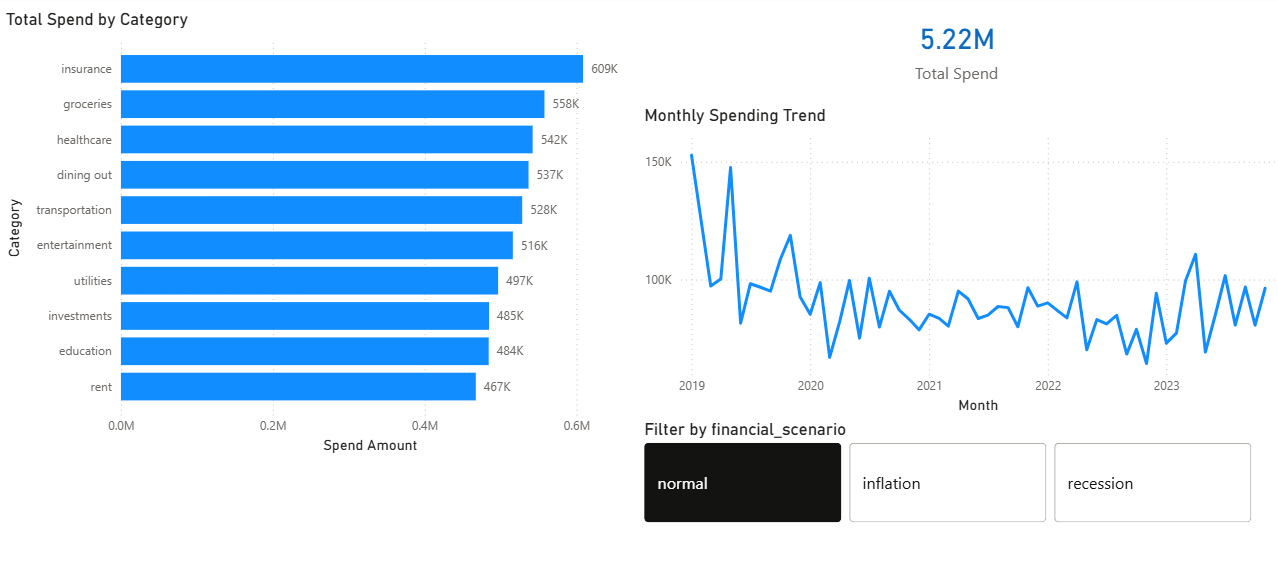

Layout of this report page (visuals, bound fields, positions):
{"tool":"powerbi","page":{"name":"Overview","canvas":[1280,720],"ordinal":0},"visuals":[{"type":"clusteredBarChart","title":"Total Spend by Category","fields":{"Category":["public monthly_spending.category"],"Y":["Sum(public monthly_spending.monthly_expense)"]},"box":[4.1,13.7,635.3,447.3],"z":0},{"type":"card","fields":{"Values":["Sum(public monthly_spending.monthly_expense)"]},"box":[843.9,13.7,223.7,78.2],"z":1000},{"type":"lineChart","title":"Monthly Spending Trend","fields":{"Y":["Sum(public monthly_spending.monthly_expense)"],"Category":["public monthly_spending.month_date"]},"box":[639.5,109.8,640.8,311.5],"z":2000},{"type":"advancedSlicerVisual","fields":{"Values":["public monthly_spending.financial_scenario"]},"box":[639.5,421.3,614.8,108.4],"z":3000}]}

Visuals, with their boxes on the page's 1280x720 design canvas (x1, y1, x2, y2). These are canvas units, not pixel positions in the 1278x561 screenshot, which may show the page scaled, cropped or inside an application window:
"Total Spend by Category" clusteredBarChart: box(4, 14, 639, 461)
card - Sum(public monthly_spending.monthly_expense): box(844, 14, 1068, 92)
"Monthly Spending Trend" lineChart: box(640, 110, 1280, 421)
advancedSlicerVisual - public monthly_spending.financial_scenario: box(640, 421, 1254, 530)
